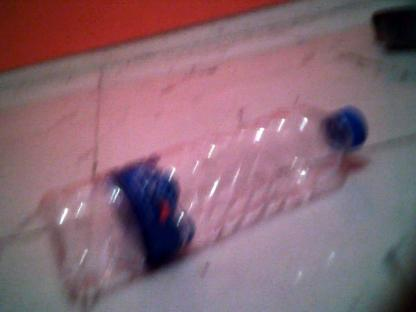Plastic Bottle: (36, 95, 368, 312)
